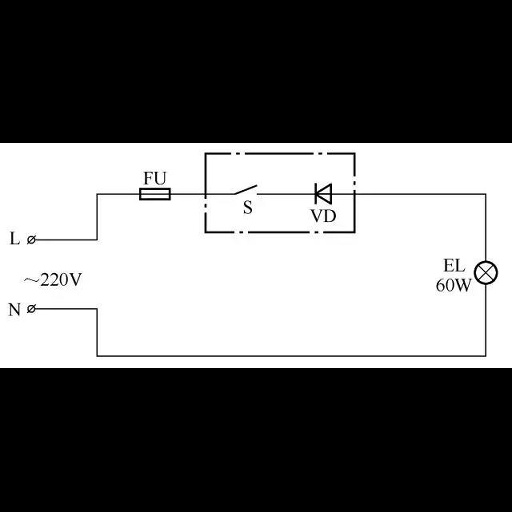fuse: (135, 186, 176, 202)
light: (472, 260, 501, 285)
seconddiode: (309, 180, 335, 205)
